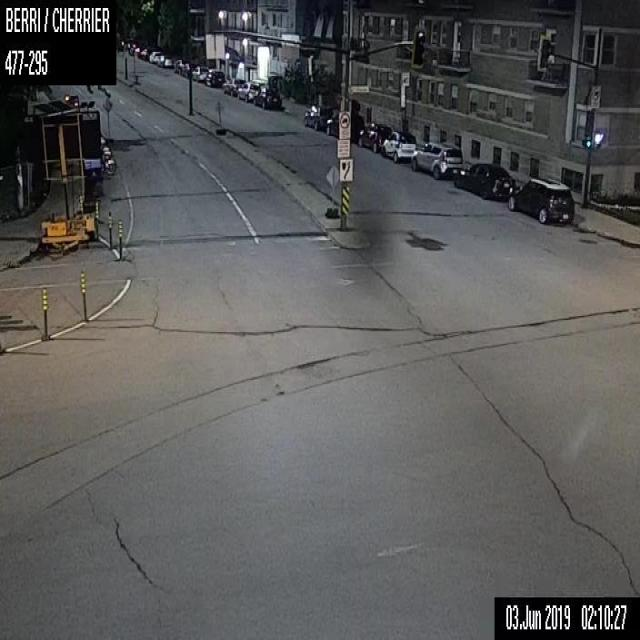construction: (23, 99, 100, 248), (324, 164, 338, 217), (102, 98, 114, 143), (79, 266, 86, 322), (41, 286, 48, 334), (116, 219, 124, 260), (107, 208, 113, 249), (215, 99, 222, 132)
vehicle: (507, 176, 574, 224), (454, 162, 514, 198), (410, 142, 462, 178), (381, 131, 417, 163), (326, 111, 364, 140), (358, 122, 392, 154), (302, 105, 332, 130), (252, 86, 280, 108), (236, 81, 261, 101), (222, 77, 245, 95), (203, 68, 224, 86), (191, 65, 208, 80), (158, 55, 172, 66), (173, 58, 182, 74), (140, 48, 151, 60), (149, 51, 160, 62), (181, 63, 189, 76)
